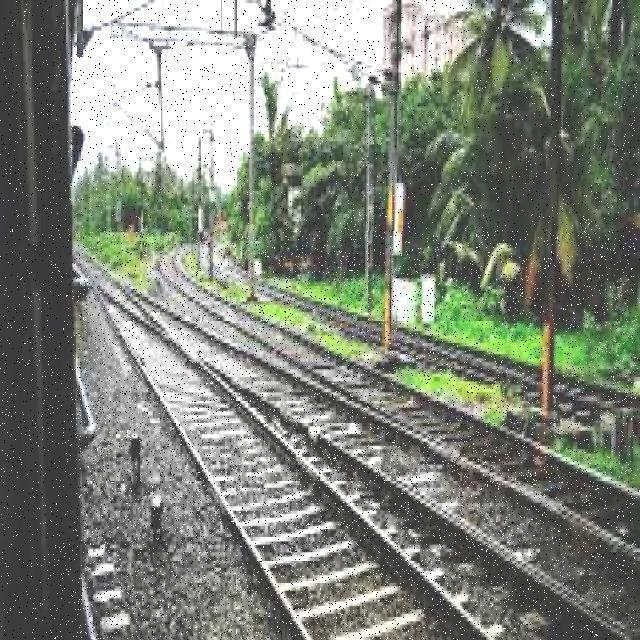rail: (73, 231, 636, 639)
